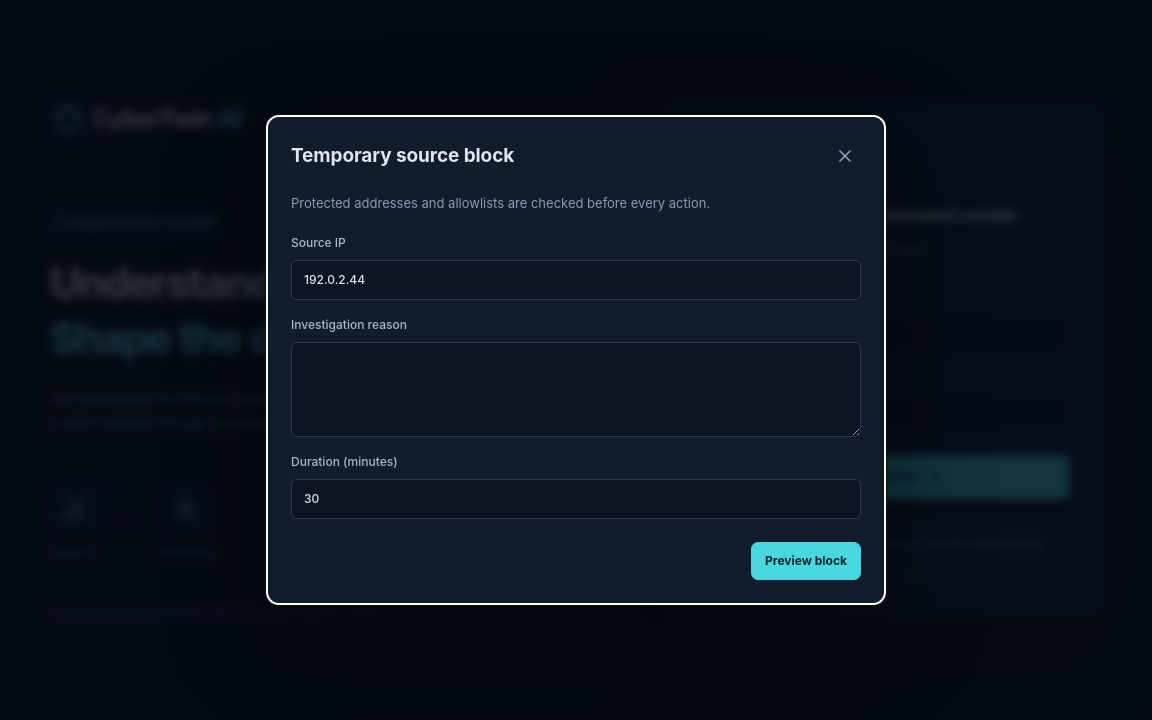
Test case: prevents confirmation in detection-only mode
Type "Investigated sample" into the text box labelled "Investigation reason" at (576, 390), box [291,342,861,437]
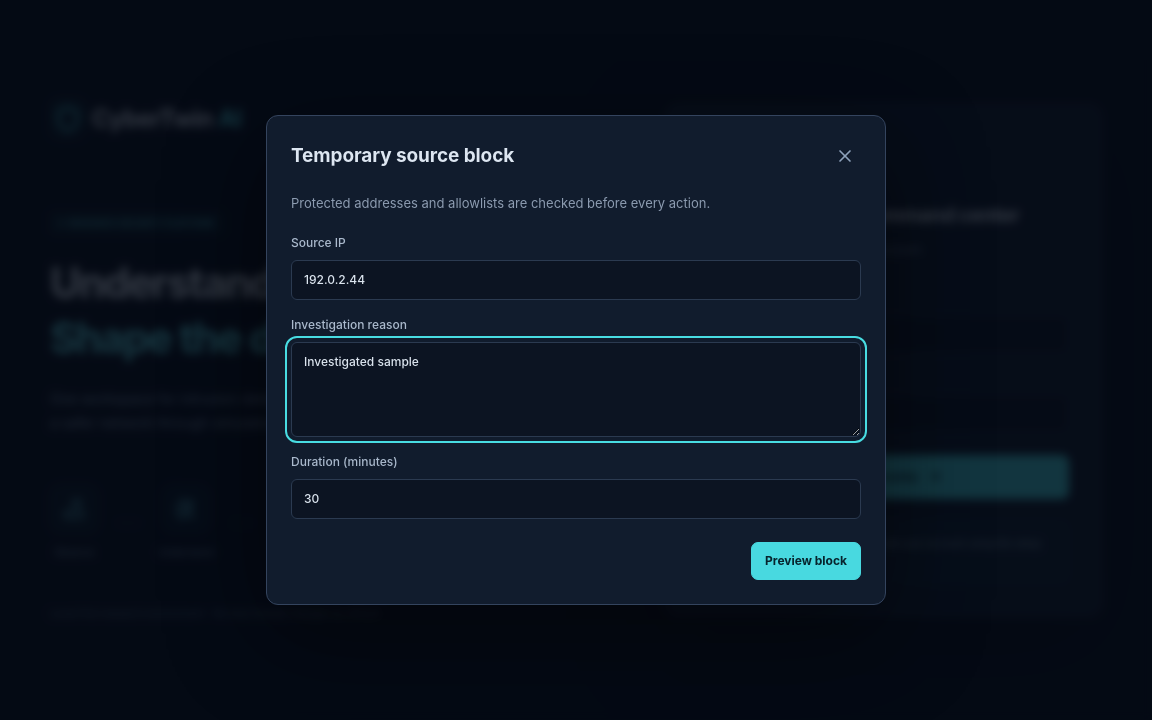
Click the button "Preview block" at (806, 561), box [751,542,861,580]
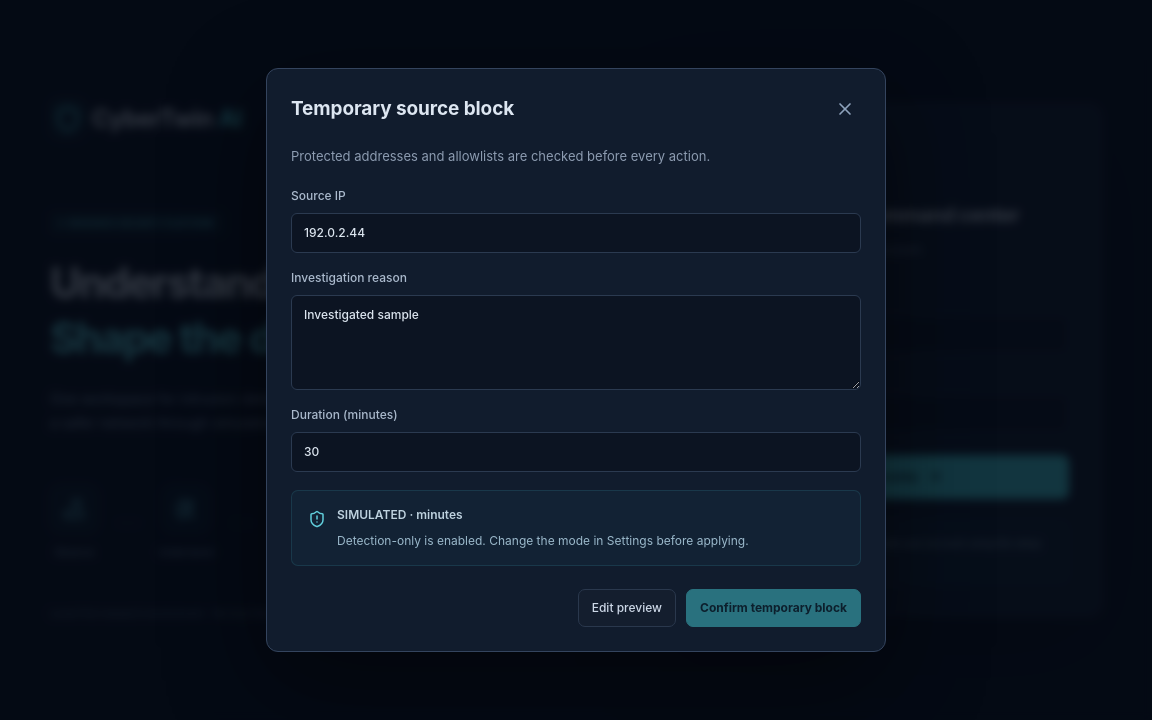
expect the button "Confirm temporary block" is disabled: met, box [686,589,861,627]
